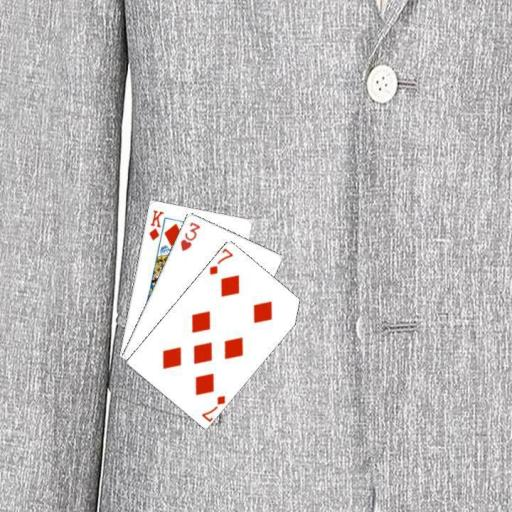card-corner: (206, 245, 235, 276), (198, 392, 227, 422), (177, 218, 201, 252), (146, 207, 165, 242)
